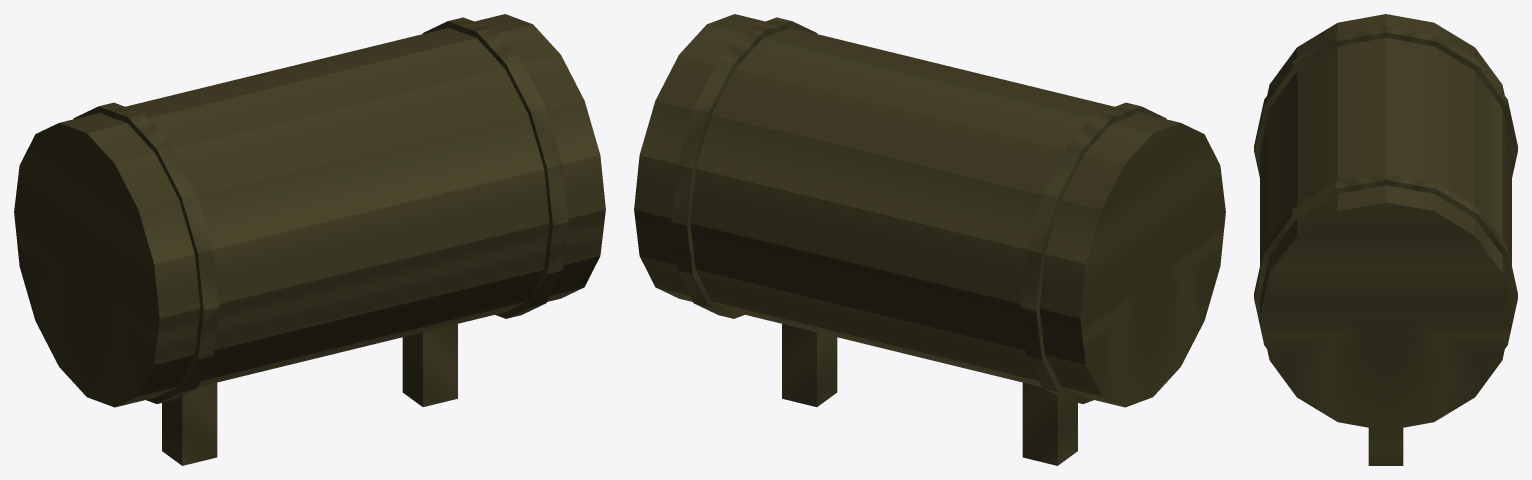
Rendered from prop_fuel_tank_large.glb.
3 renders of one model, left to right at view 1: azimuth 30°, elevation 25°; view 2: azimuth 150°, elevation 25°; view 3: azimuth 270°, elevation 25°, orthographic. The views are drawn at different scales.
Visible parts, largest first — view 1: prop_fuel_tank_large; view 2: prop_fuel_tank_large; view 3: prop_fuel_tank_large.
Part boxes in pixels (x1,y1,x2,y2): prop_fuel_tank_large: (14,14,605,465); prop_fuel_tank_large: (634,14,1225,465); prop_fuel_tank_large: (1254,14,1517,465).
Size of the model in its own units: 2.3 by 1.74 by 1.36.
1 material, 1 textured.
